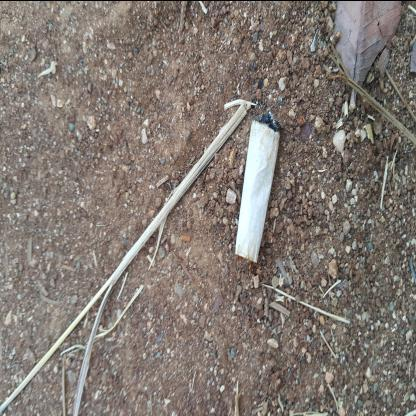kagit: (155, 236, 301, 284)
